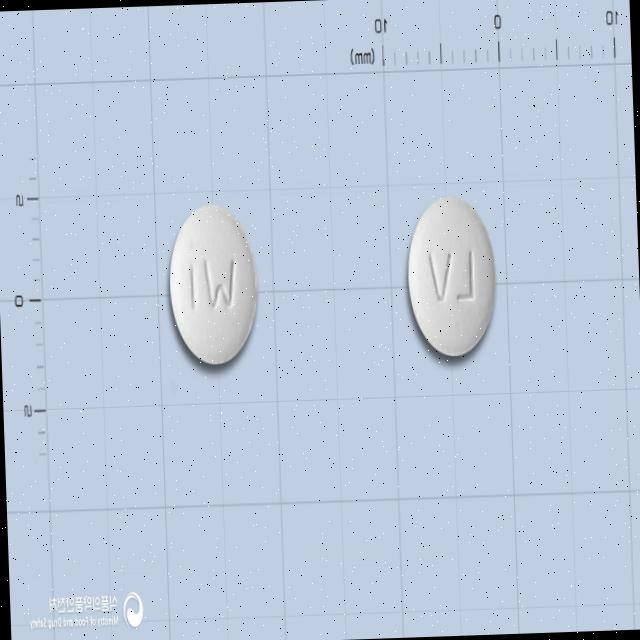Whanin Levofloxacin Tab: (164, 202, 260, 367), (403, 192, 497, 358)
